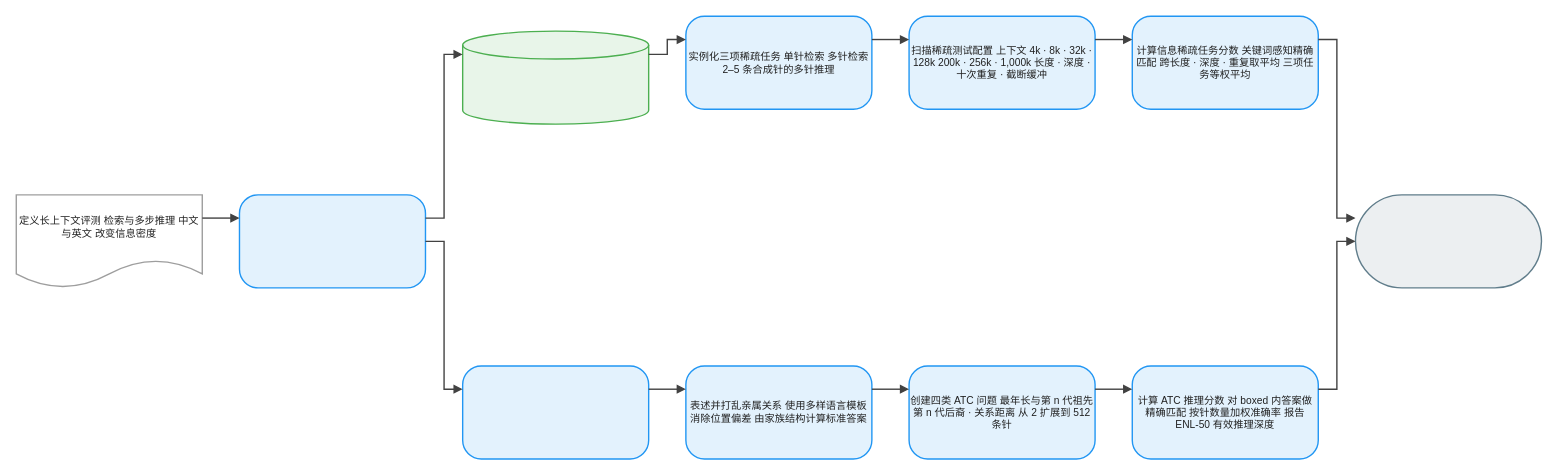
This 1559x476 diagram has some shape labels left out. The shapes that lost their labels are listed below. From the top down, each one's box as (x1, y1, x2, y2) in pixels, then its label:
(462, 30, 649, 124): 构建信息稀疏输入 英文使用 Paul Graham 随笔干草 中文使用领域建模数据干草 在受控深度插入针信息
(238, 194, 426, 288): 生成合成针信息 虚构事实与亲属关系 避免预训练知识重叠 随机化姓名与模板
(1354, 194, 1542, 288): 报告长上下文能力 分开呈现稀疏与密集结果 比较语言与上下文长度 分析连续推理失败模式
(462, 365, 649, 459): 构建信息密集家族链 采样 n+1 个唯一姓名 父母权重一 · 祖父母权重二 每句话均与答案相关
